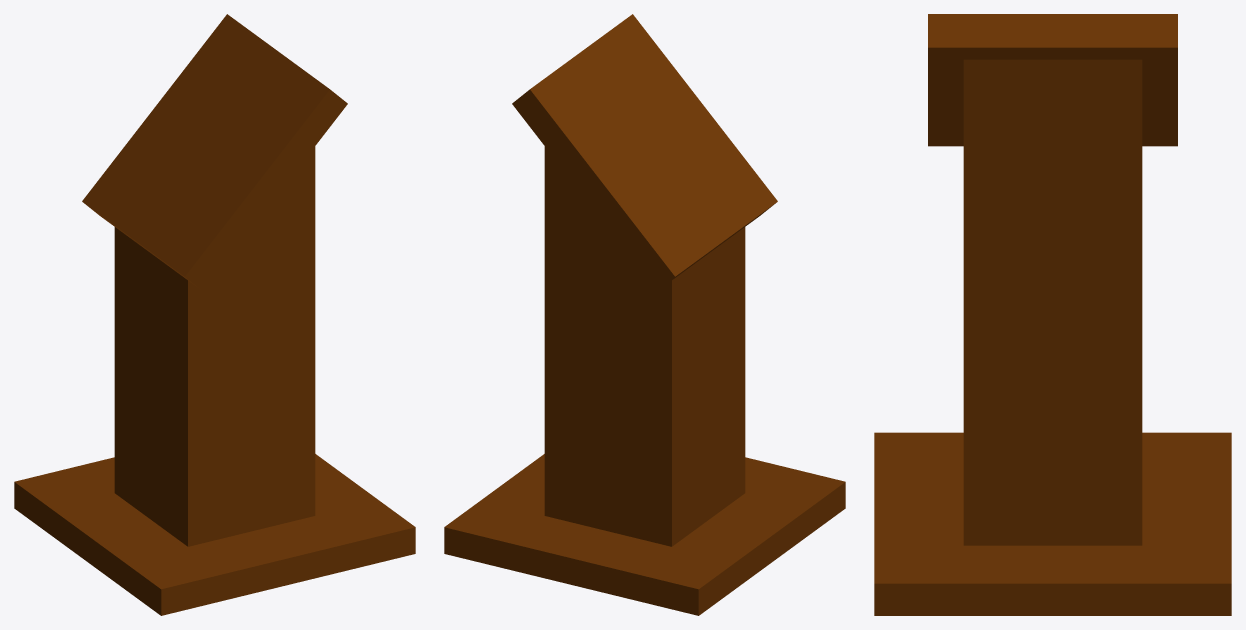
File: Podium.fbx
The picture shows the model from 3 angles, left to right: view 1: azimuth 30°, elevation 25°; view 2: azimuth 150°, elevation 25°; view 3: azimuth 270°, elevation 25°; orthographic projection. The views are drawn at different scales.
Visible parts, largest first — view 1: Podium; view 2: Podium; view 3: Podium.
Boxes of the visible parts, <box> form: Podium: <box>14,14,415,615</box>; Podium: <box>444,14,845,615</box>; Podium: <box>874,14,1231,615</box>.
Size of the model in its own units: 200 by 348 by 200.
